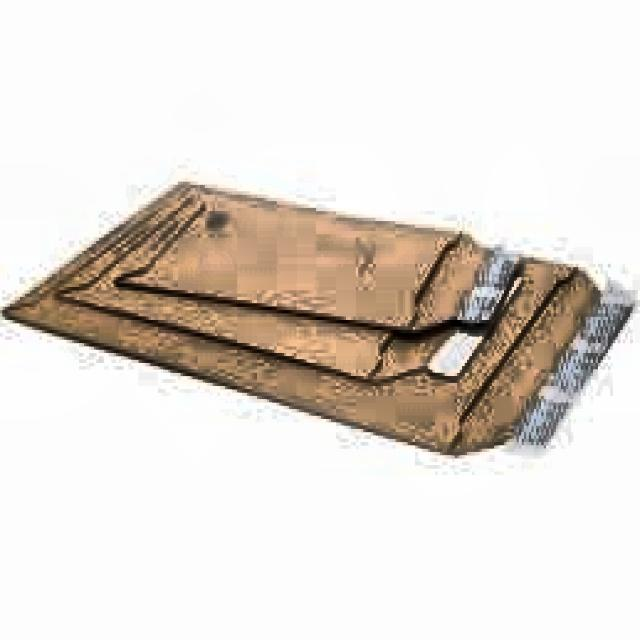cardboard: (1, 171, 624, 470)
